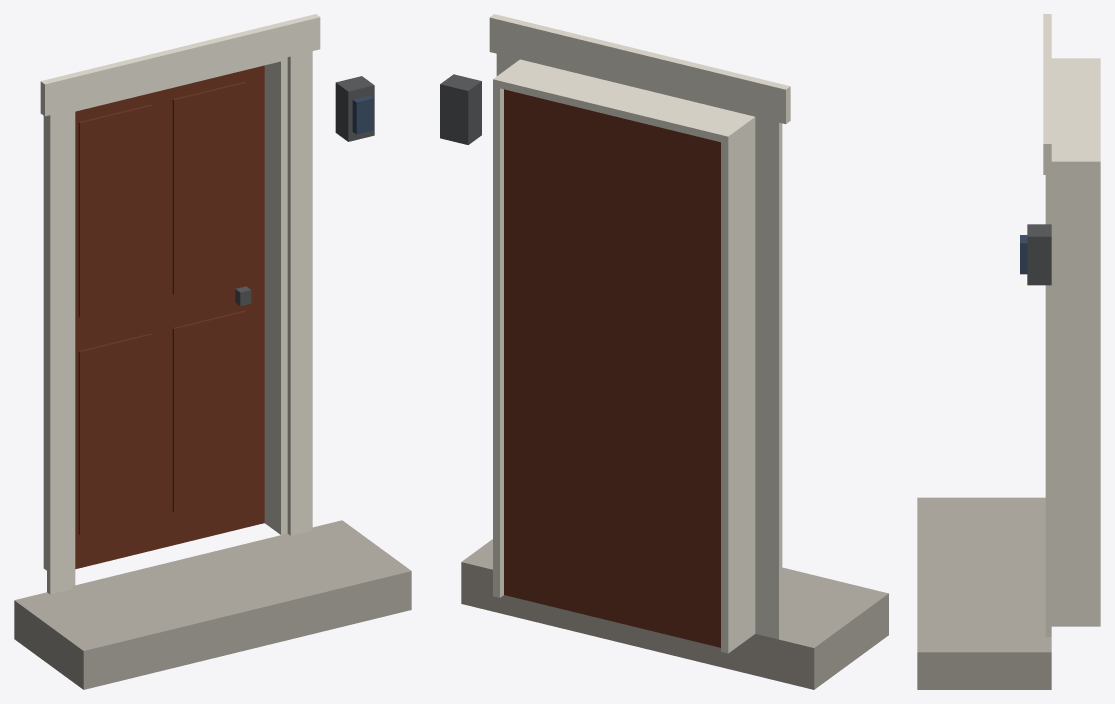
Rendered from kit_door_front.obj.
The picture shows the model from 3 angles, left to right: view 1: azimuth 30°, elevation 25°; view 2: azimuth 150°, elevation 25°; view 3: azimuth 270°, elevation 25°; orthographic projection. The views are drawn at different scales.
Visible parts, largest first — view 1: kit_door_front; view 2: kit_door_front; view 3: kit_door_front.
Part boxes in pixels (x1,y1,x2,y2): kit_door_front: (14,14,411,689); kit_door_front: (440,14,888,689); kit_door_front: (917,14,1100,689).
Bounding box in the file's own units: 1.59 × 2.41 × 0.75.
